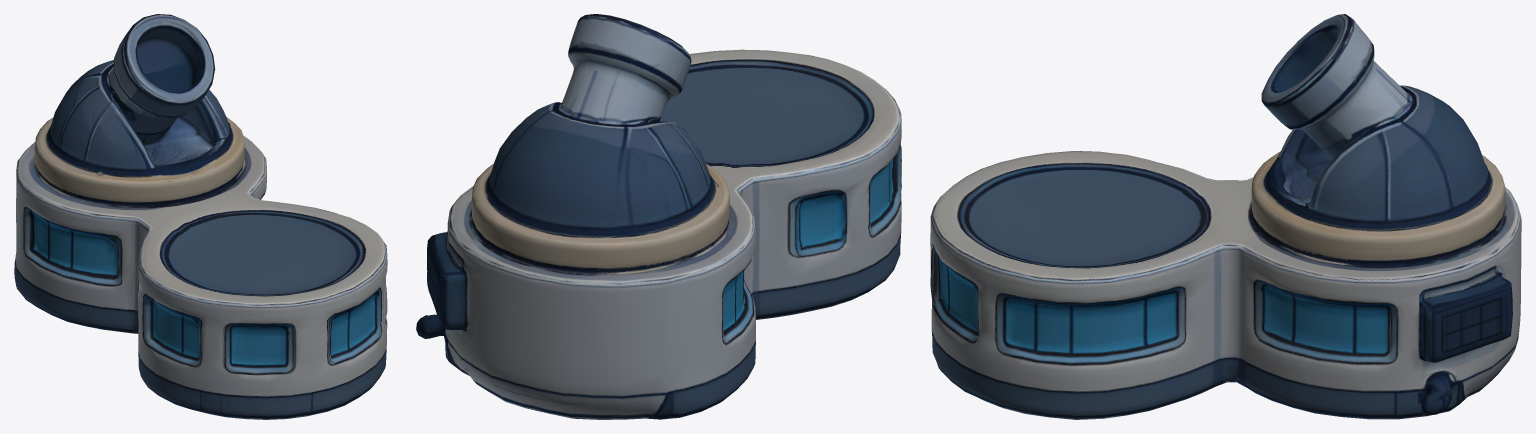
File: tripo_convert_a3ccdc82-9edc-4436-8a79-08a78f8c4d53.obj
3 renders of one model, left to right at view 1: azimuth 30°, elevation 25°; view 2: azimuth 150°, elevation 25°; view 3: azimuth 270°, elevation 25°, orthographic. The views are drawn at different scales.
Visible parts, largest first — view 1: tripo_node_a3ccdc82-9edc-4436-8a79-08a78f8c4d53; view 2: tripo_node_a3ccdc82-9edc-4436-8a79-08a78f8c4d53; view 3: tripo_node_a3ccdc82-9edc-4436-8a79-08a78f8c4d53.
Part boxes in pixels (box(x1,y1,x2,y2)): tripo_node_a3ccdc82-9edc-4436-8a79-08a78f8c4d53: box(14, 14, 387, 419); tripo_node_a3ccdc82-9edc-4436-8a79-08a78f8c4d53: box(416, 14, 901, 419); tripo_node_a3ccdc82-9edc-4436-8a79-08a78f8c4d53: box(930, 14, 1521, 419).
Bounding box in the file's own units: 0.5625 × 0.6284 × 0.9983.
1 material, 1 textured.
